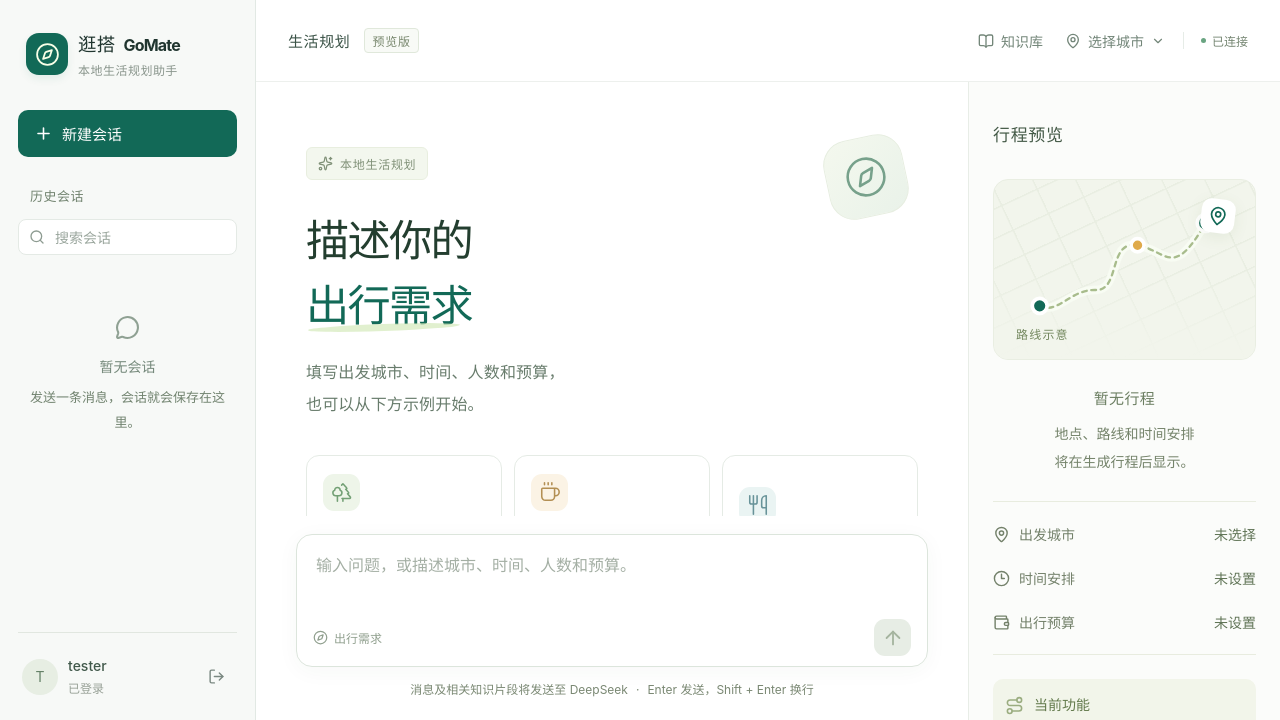
Test: GoMate workspace › loads the assistant answer after completion and identifies replies with no retrieved evidence
The image size is (1280, 720).
Expected: the button named "发送消息" is shown, [874, 619, 911, 656]
In the text box named "输入出行需求": coordinates (612, 580) [313, 551, 911, 609], type "下班后想去散步"
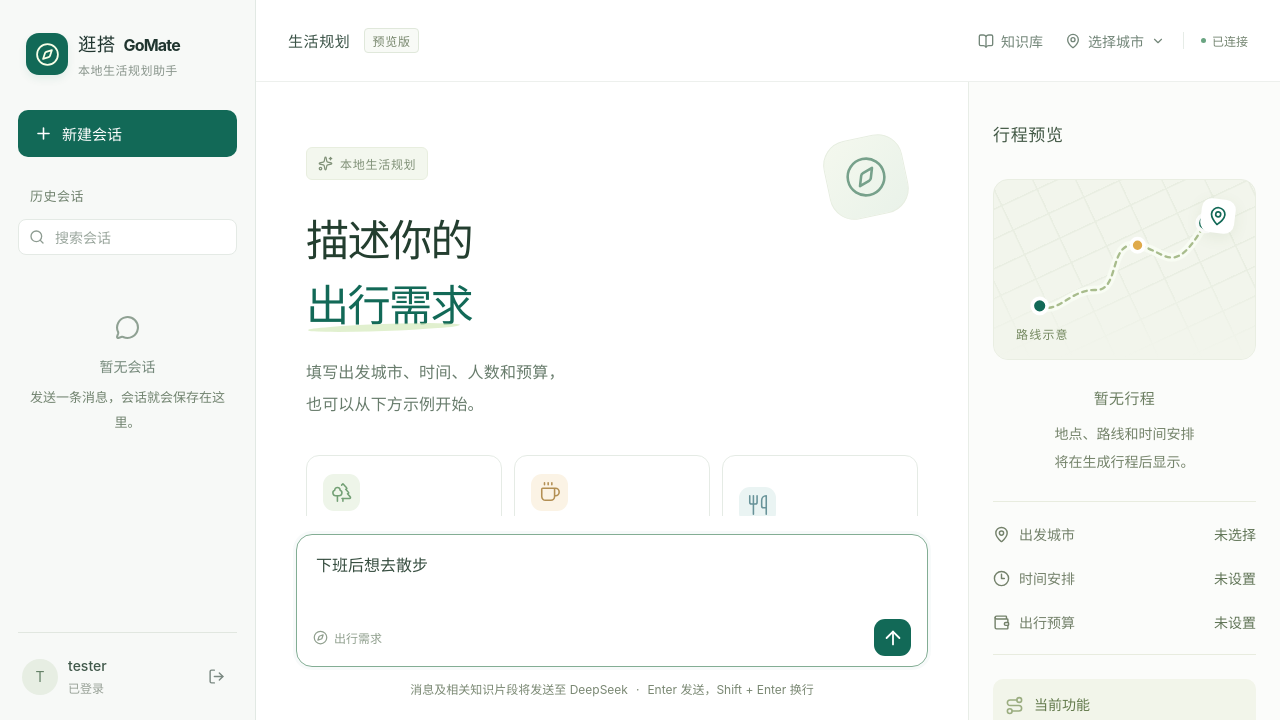
Click the button named "发送消息": coordinates (892, 638) [874, 619, 911, 656]
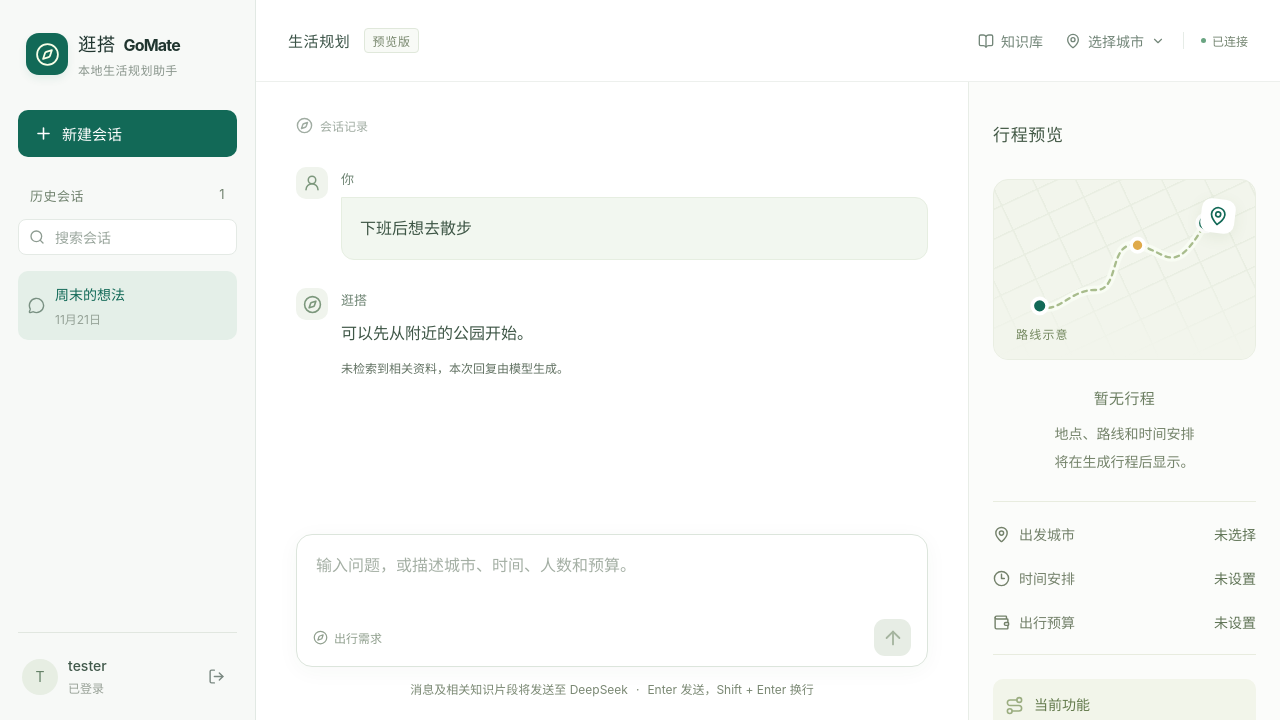
Result: the text "下班后想去散步" is shown at [341, 197, 928, 260]
Result: the text "可以先从附近的公园开始。" is shown at [341, 323, 533, 343]
Result: the text "未检索到相关资料，本次回复由模型生成。" is shown at [341, 361, 569, 376]
